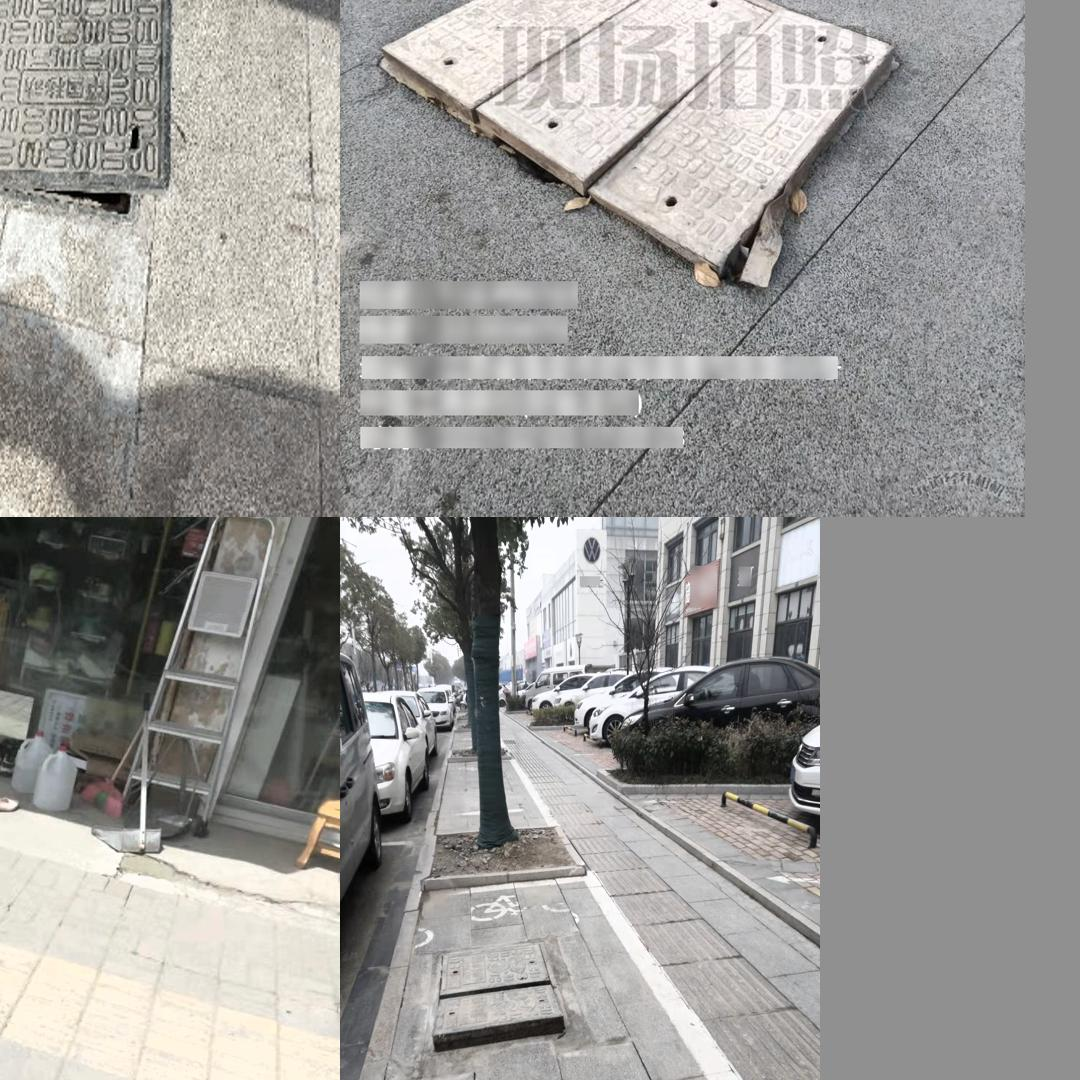uncovered: (381, 0, 893, 270), (0, 0, 170, 222), (424, 916, 558, 1060), (0, 1054, 199, 1080)
